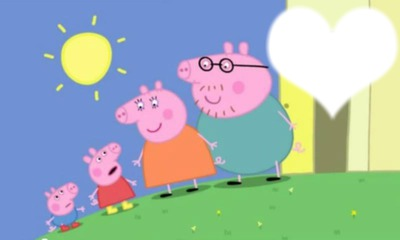Peppa: (81, 142, 139, 217)
